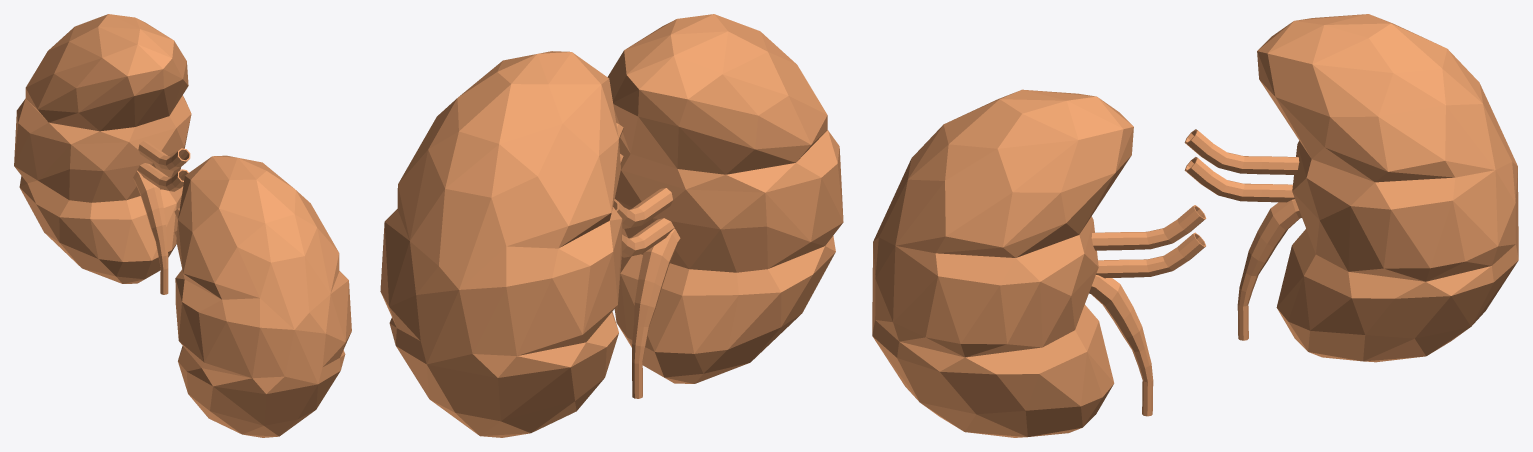
Rendered from Kidneys.fbx.
The picture shows the model from 3 angles, left to right: view 1: azimuth 30°, elevation 25°; view 2: azimuth 150°, elevation 25°; view 3: azimuth 270°, elevation 25°; orthographic projection. The views are drawn at different scales.
Parts seen in each view (by area): view 1: Kidneys; view 2: Kidneys; view 3: Kidneys.
Boxes of the visible parts, x1,y1,x2,y2 form: Kidneys: (14,14,351,437); Kidneys: (380,14,843,437); Kidneys: (872,14,1518,437).
Size of the model in its own units: 56.65 by 112 by 157.
